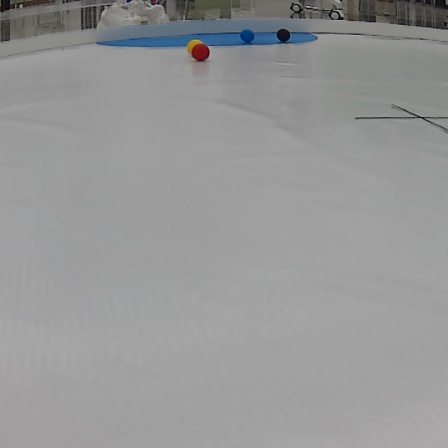black: (273, 28, 293, 44)
blue: (239, 28, 257, 43)
blue_base: (95, 27, 335, 48)
red: (191, 44, 212, 61)
yellow: (185, 38, 201, 52)
